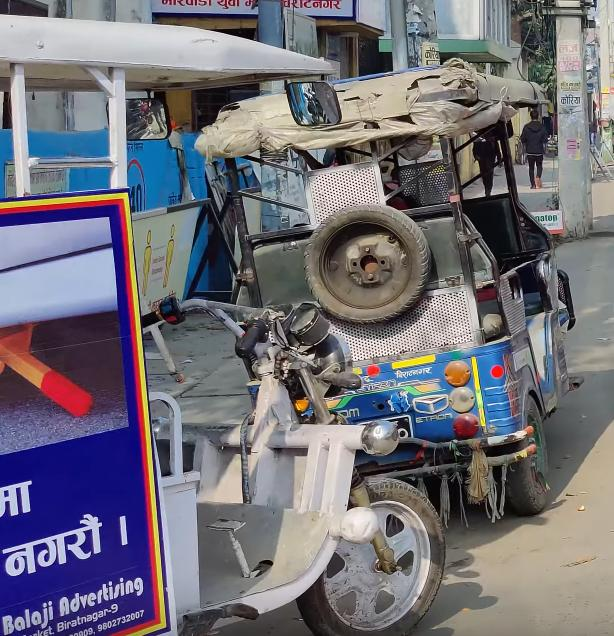e-rickshaw: (190, 62, 599, 509)
